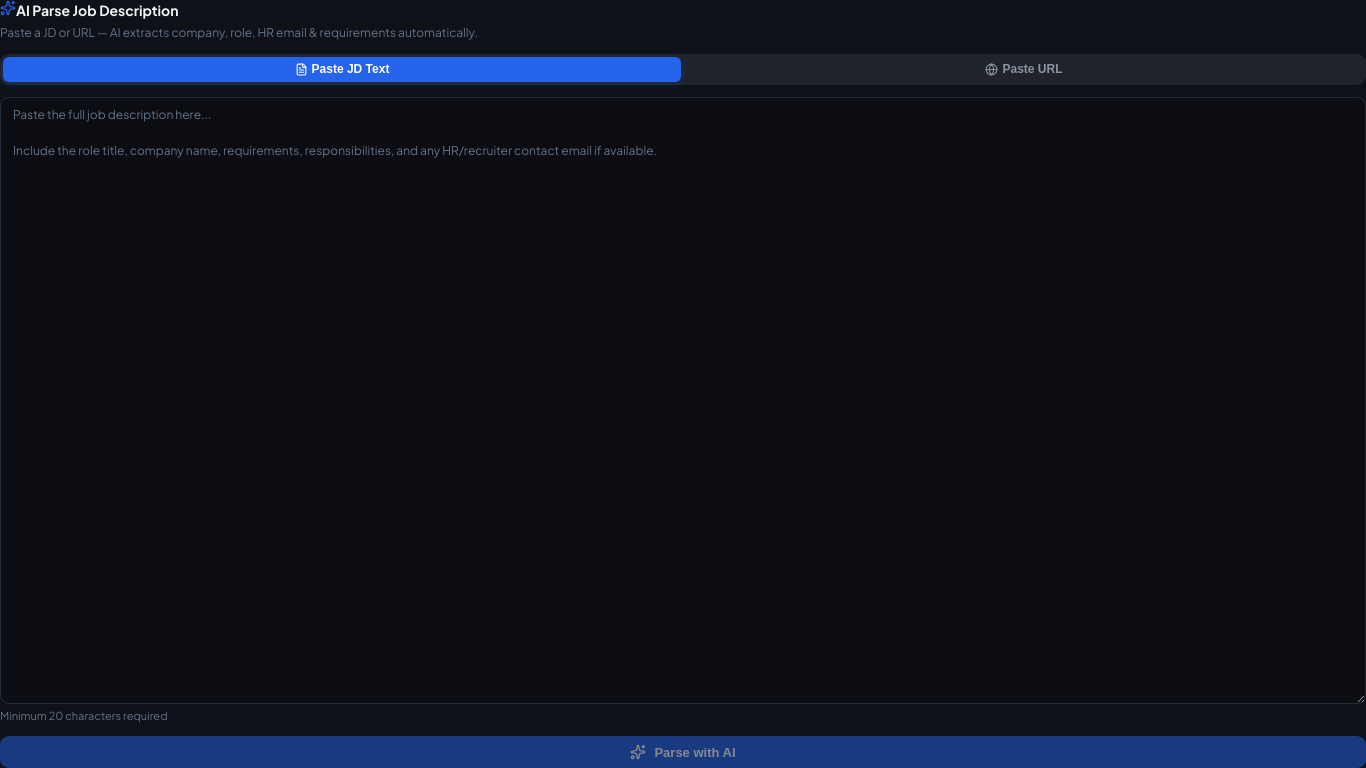
Test: AiJdParserPanel Component › detects duplicate email and disables add to queue button
The image size is (1366, 768).
Replace the text in the text box with placeholder "Paste the full job description here" with "Software Engineer at Stripe. Reach out to alex@stripe.com" at [683, 400], box x1=0 y1=97 x2=1365 y2=704
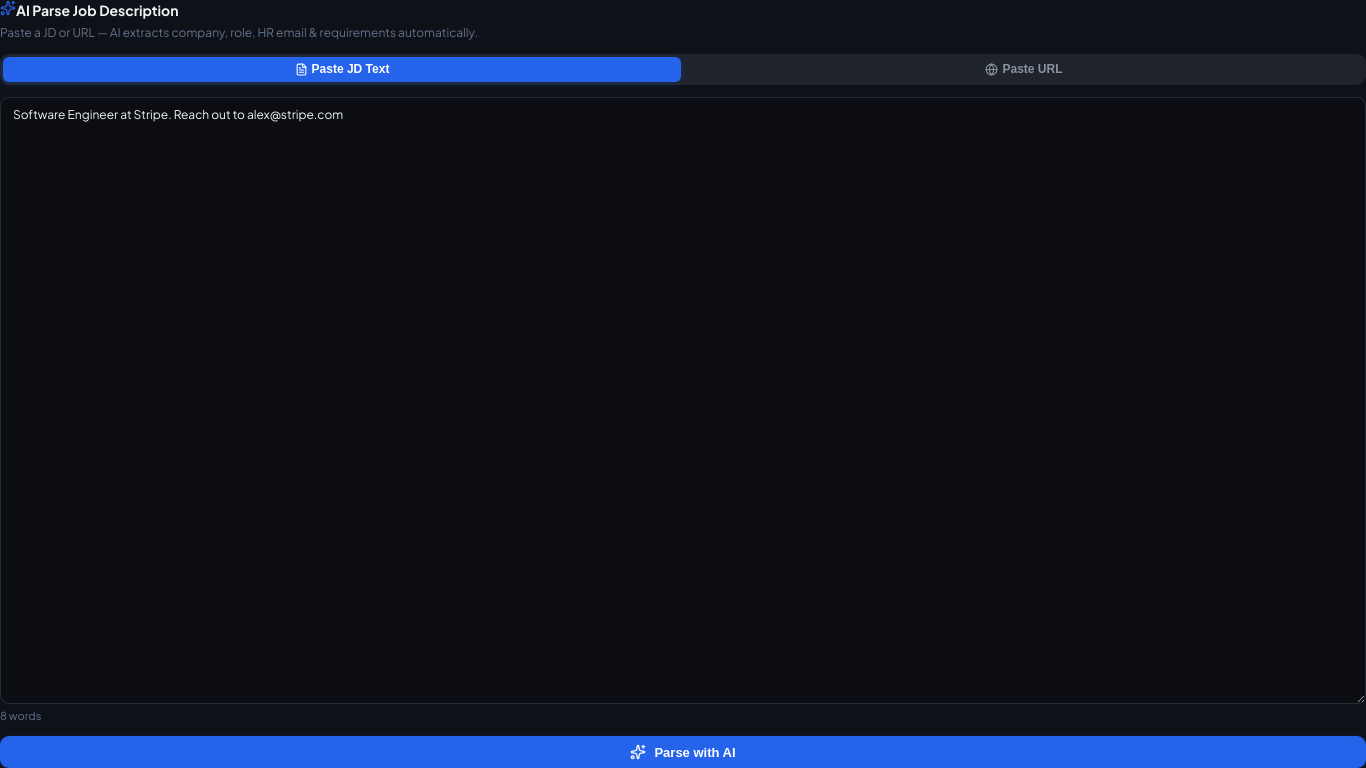
Click the button "Parse with AI" at [683, 752], box x1=0 y1=736 x2=1365 y2=767
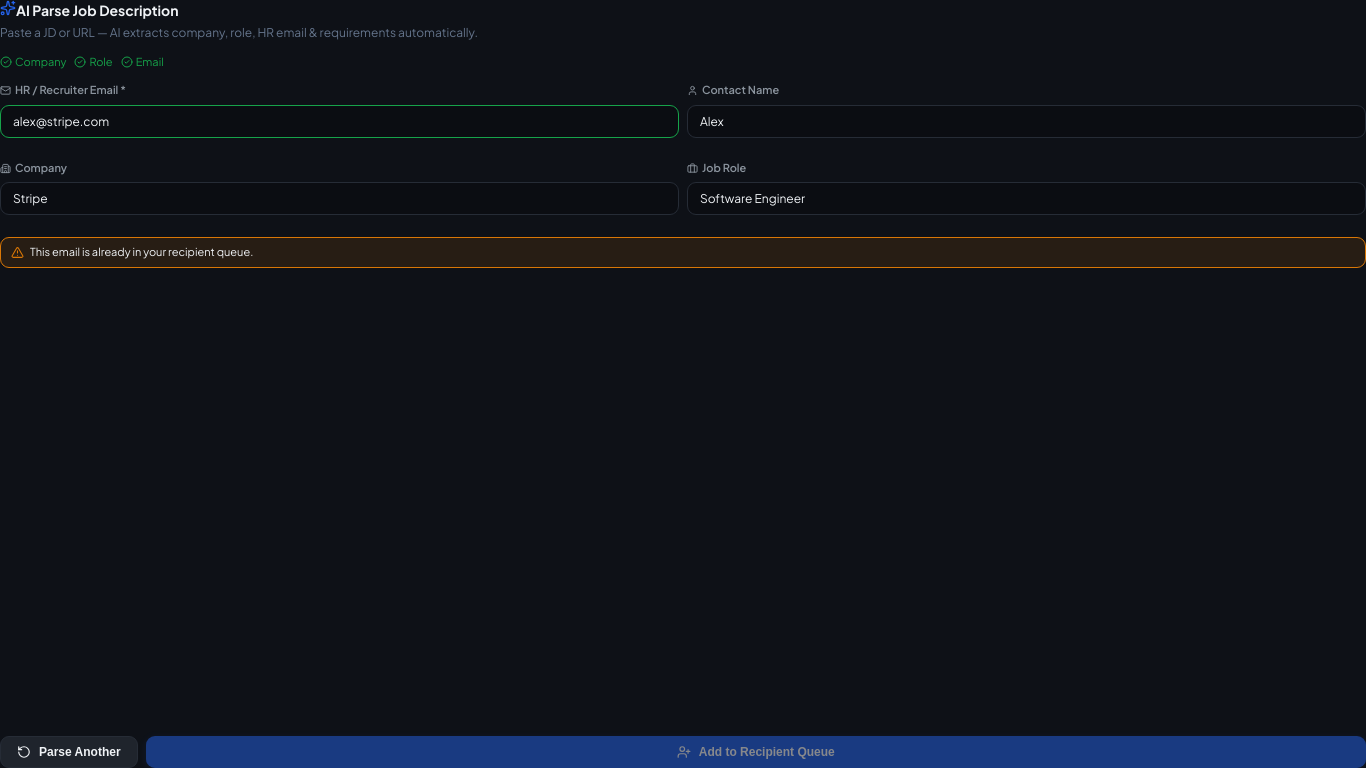
Expected: the text "This email is already in your recipient queue." is shown, x1=0 y1=237 x2=1365 y2=268
Expected: the button "Add to Recipient Queue" is disabled, x1=146 y1=736 x2=1365 y2=767
